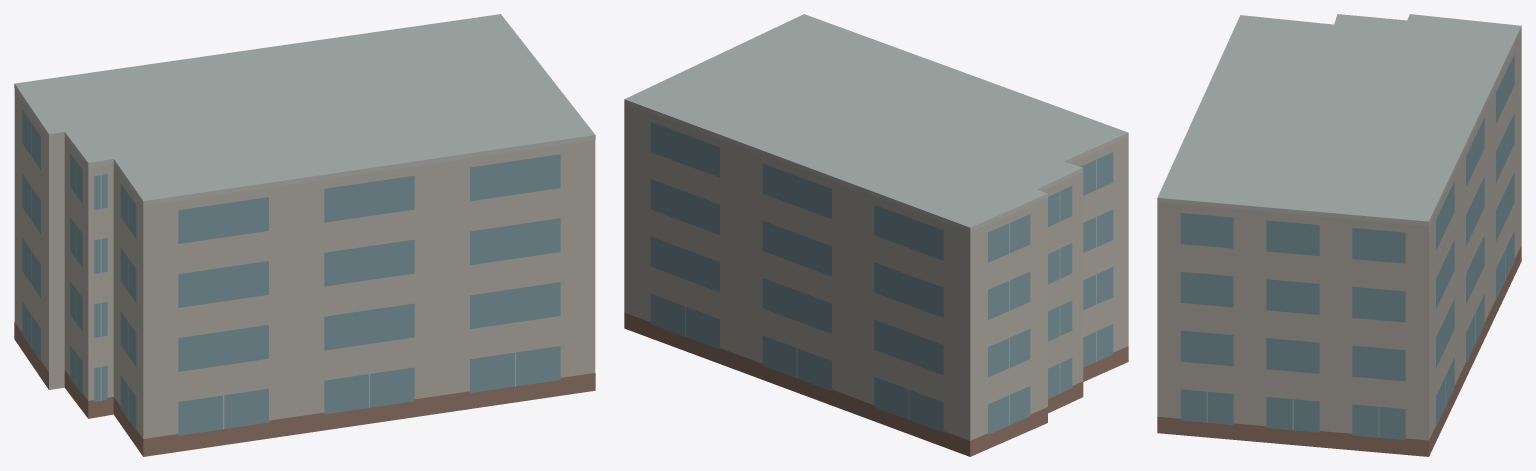
File: survey-upis-32600980.glb
The picture shows the model from 3 angles, left to right: view 1: azimuth 30°, elevation 25°; view 2: azimuth 150°, elevation 25°; view 3: azimuth 270°, elevation 25°; orthographic projection. The views are drawn at different scales.
Visible parts, largest first — view 1: survey-upis-32600980.tmp; view 2: survey-upis-32600980.tmp; view 3: survey-upis-32600980.tmp.
Boxes of the visible parts, left/top/right/bottom form: survey-upis-32600980.tmp: left=14, top=14, right=595, bottom=456; survey-upis-32600980.tmp: left=624, top=14, right=1128, bottom=456; survey-upis-32600980.tmp: left=1157, top=14, right=1521, bottom=456.
Bounding box in the file's own units: 24.41 × 12.9 × 18.11.
